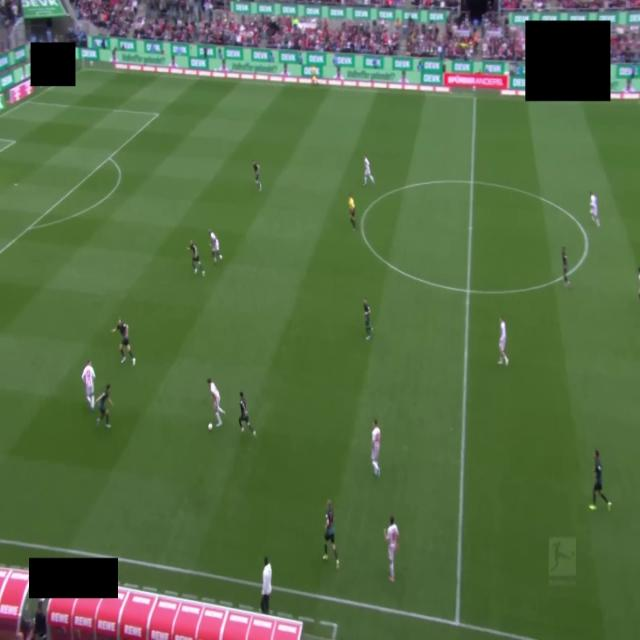ball: (208, 423, 213, 431)
player: (589, 450, 611, 510), (112, 318, 135, 365), (323, 501, 339, 567), (384, 516, 398, 582), (207, 378, 224, 426), (239, 392, 256, 436), (97, 384, 113, 428), (82, 360, 95, 410), (187, 240, 204, 276), (371, 420, 380, 475), (498, 317, 508, 365), (209, 230, 223, 263), (364, 298, 372, 340), (590, 192, 599, 227), (562, 247, 569, 287), (364, 157, 374, 185), (253, 160, 261, 191), (638, 268, 639, 299)
referee: (348, 194, 356, 231)
